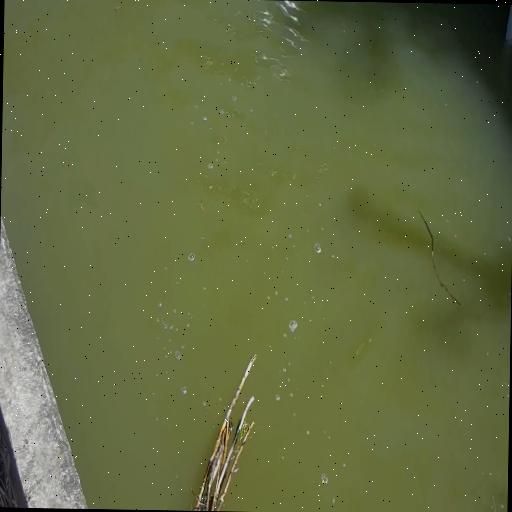twig: (182, 342, 261, 512)
